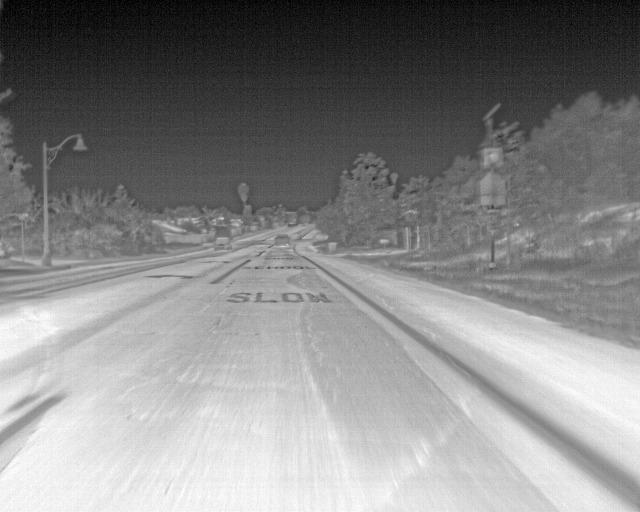car: (214, 236, 232, 251), (275, 234, 291, 247)
light: (483, 148, 504, 168)
sign: (480, 170, 506, 195), (481, 194, 505, 205), (488, 209, 499, 230), (381, 239, 389, 243)
